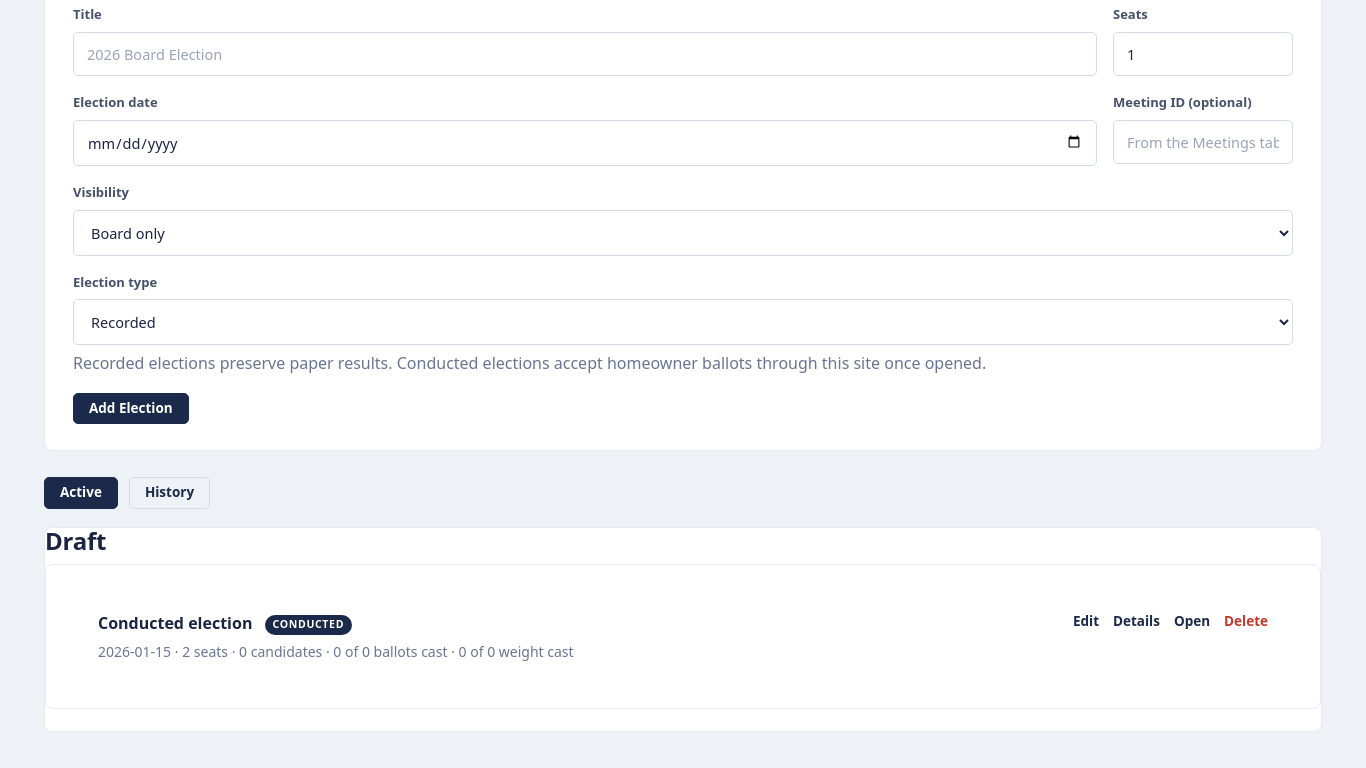
ElectionsManager › reconciles conducted Open and Close controls from successive server states
The image size is (1366, 768).
(page scrolled)
Expected: the text "Conducted election" is shown, x1=98 y1=612 x2=252 y2=634
What coordinates should you click on to do the following:
click the button with aria-label "open conducted election"
I would click on:
 (1192, 622)
Its box is x1=1174 y1=611 x2=1210 y2=633.
(page scrolled)
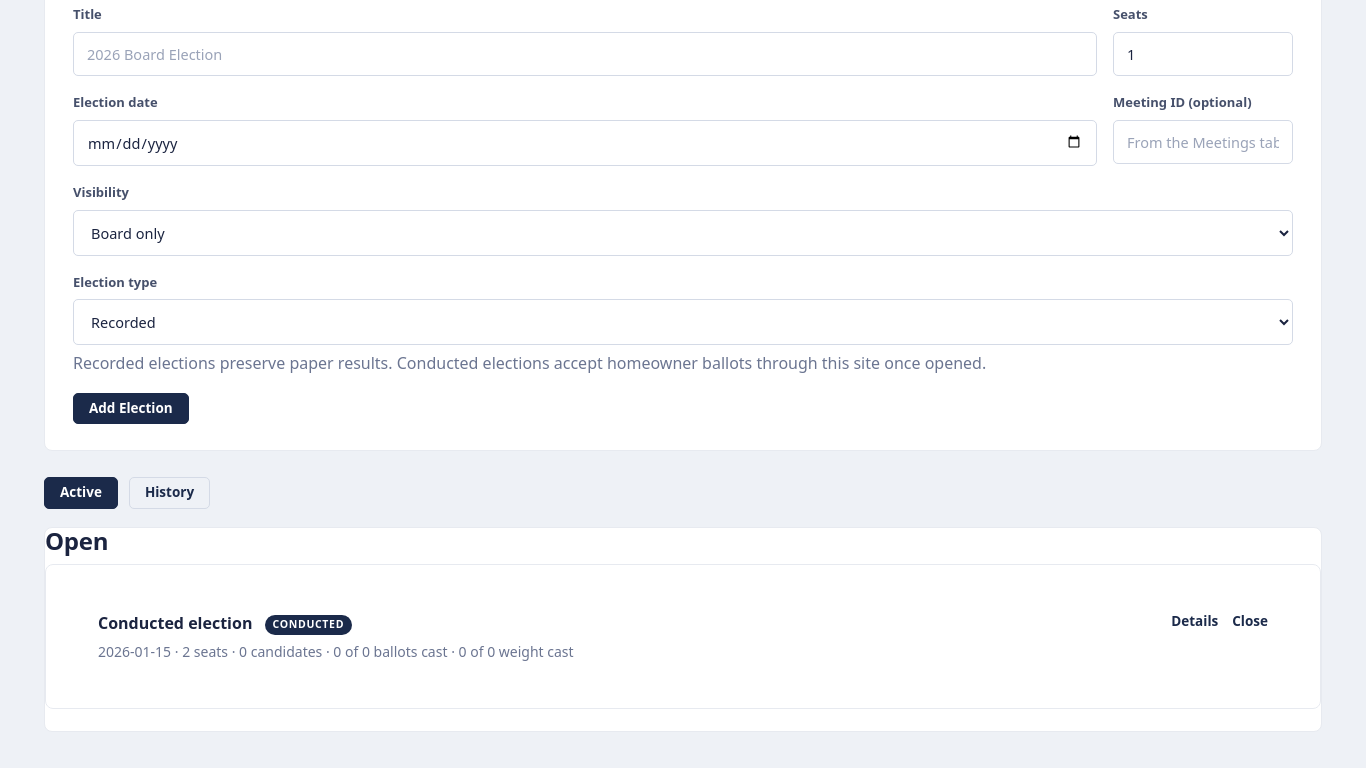
Result: the button with aria-label "close conducted election" is shown
What coordinates should you click on to do the following:
click the button with aria-label "close conducted election"
I would click on:
 (1250, 622)
Its box is x1=1232 y1=611 x2=1268 y2=633.
(page scrolled)
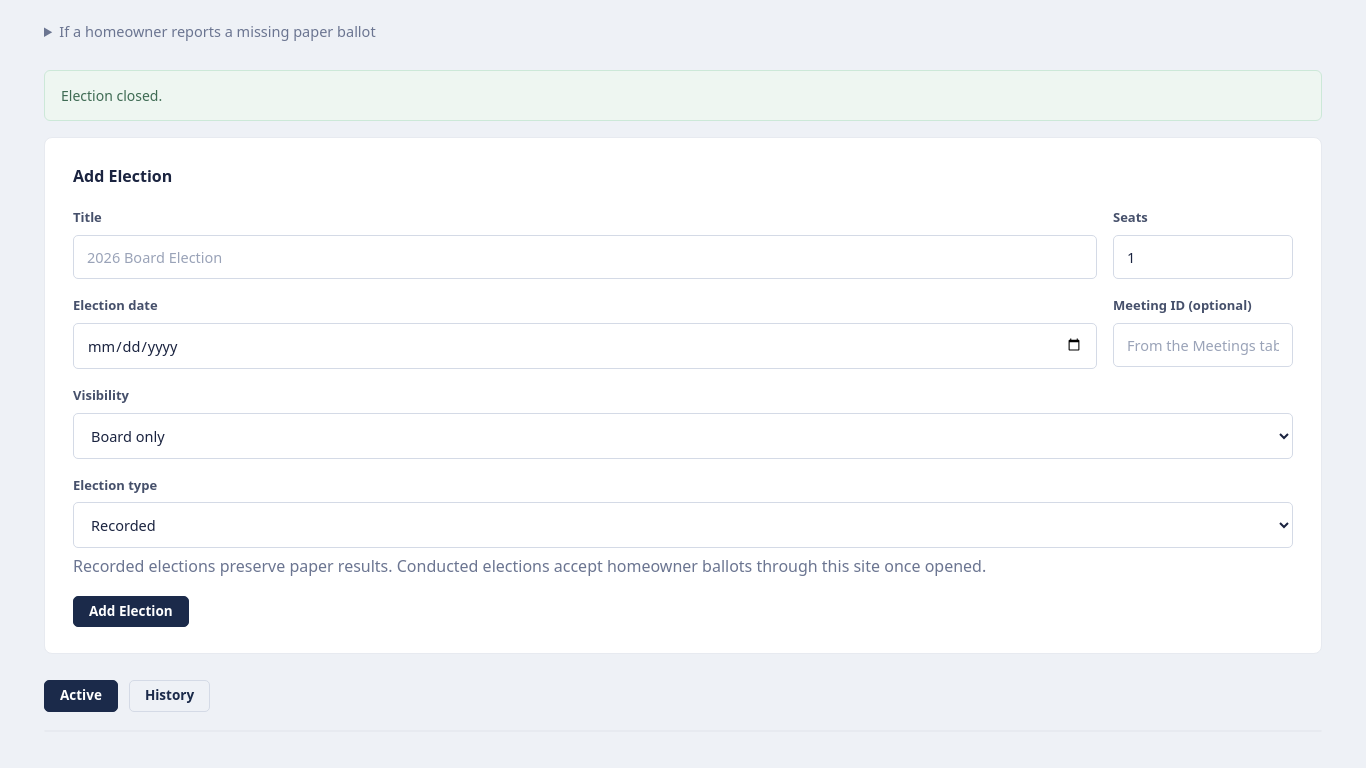
What coordinates should you click on to do the following:
click the button "History"
I would click on:
 (170, 696)
Its box is x1=129 y1=680 x2=210 y2=712.
(page scrolled)
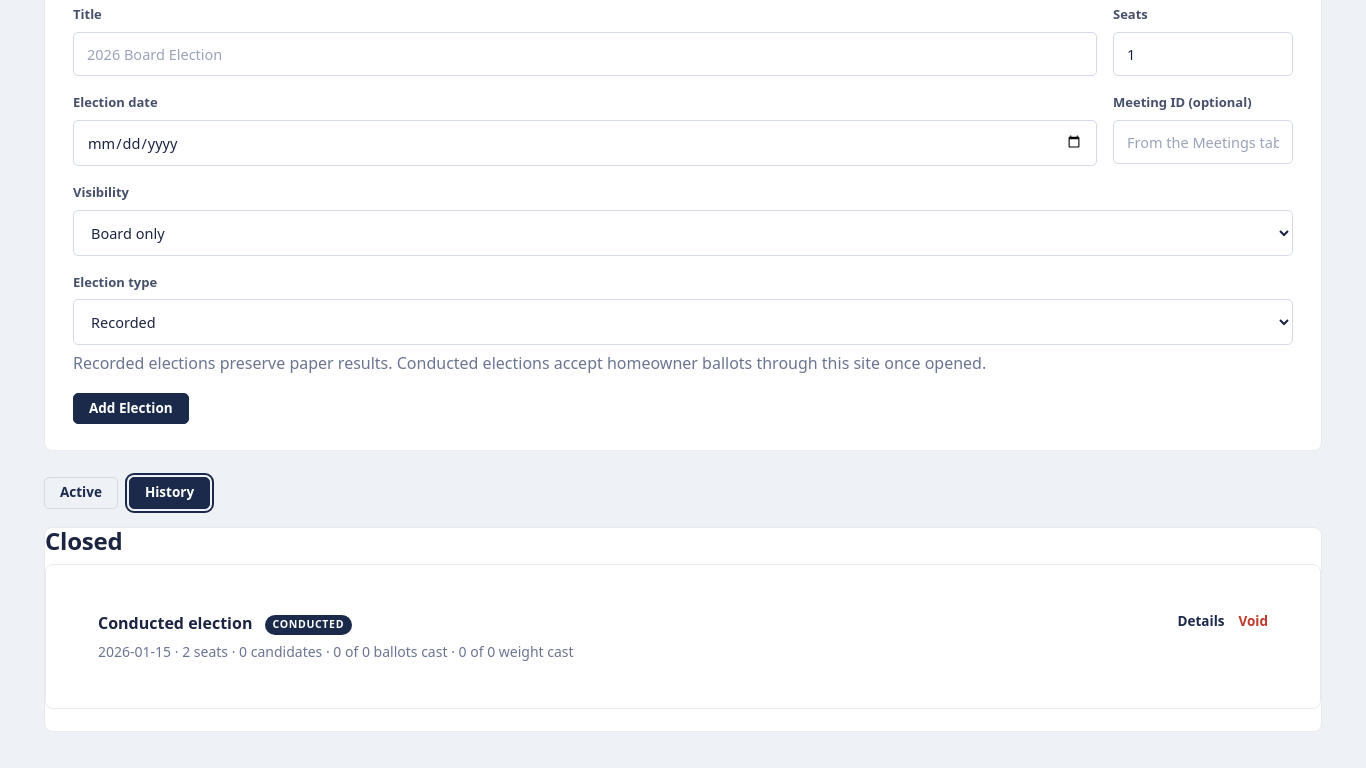
Result: the text "Conducted election" is shown at x1=98 y1=612 x2=252 y2=634
